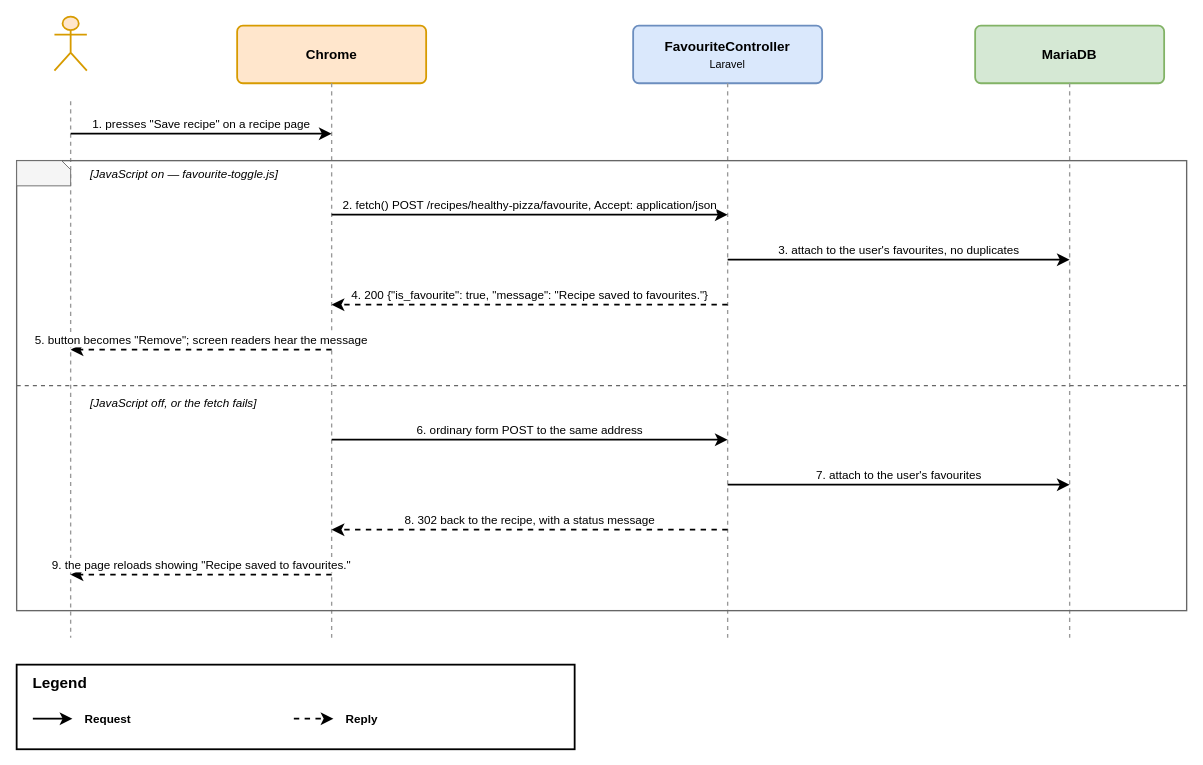
The diagram is 1203 pixels wide and 765 high, and some of its shapes have lost their labels. Here are the shapes that lost their labels. From the top down, the centre of each, then its label:
At (70,43): "Signed-in user".
At (43,173): "alt".
